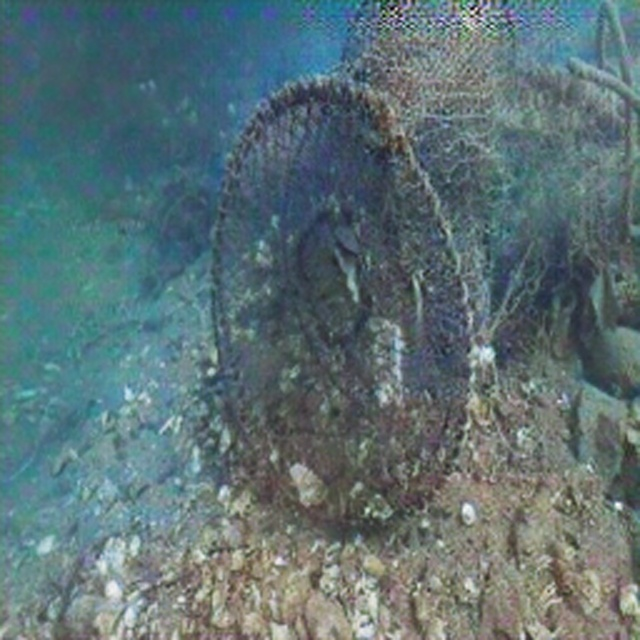mine: (211, 0, 517, 532)
